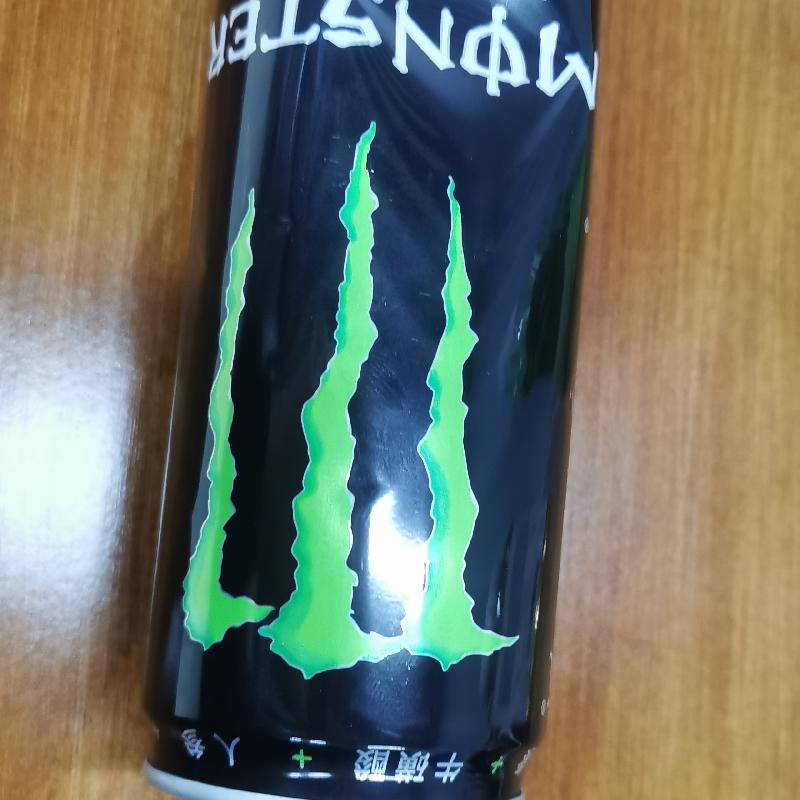cans: (139, 2, 605, 799)
